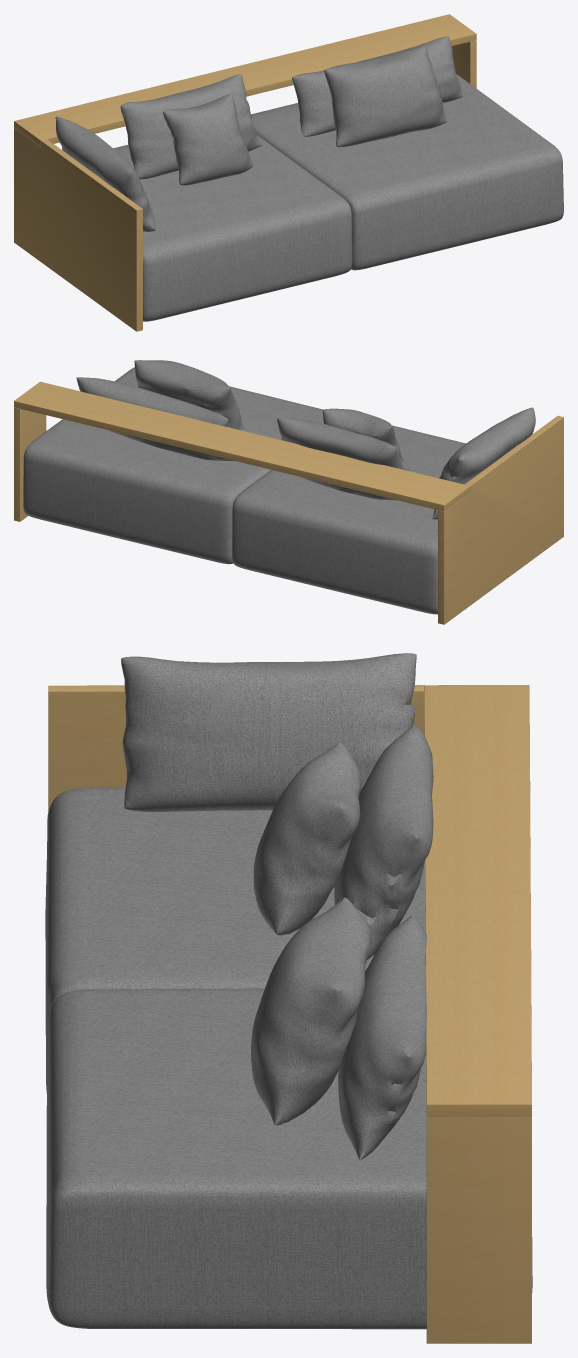
3 views of the same model, one above another, from view 1: azimuth 30°, elevation 25°; view 2: azimuth 150°, elevation 25°; view 3: azimuth 270°, elevation 25° (orthographic). The views are drawn at different scales.
Visible parts, largest first — view 1: C-skp39AC; view 2: C-skp39AC; view 3: C-skp39AC.
Boxes of the visible parts, x1,y1,x2,y2 form: C-skp39AC: [14, 14, 563, 331]; C-skp39AC: [14, 360, 563, 624]; C-skp39AC: [45, 653, 532, 1343].
Size of the model in its own units: 2.94 by 0.9314 by 1.44.
Materials: 3 (2 with a texture image).
